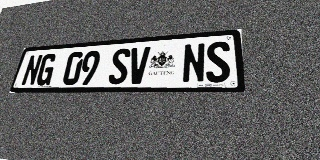0: (61, 51, 85, 85)
9: (78, 50, 101, 85)
G: (35, 53, 58, 86)
N: (182, 43, 205, 83), (20, 54, 43, 86)
S: (206, 41, 231, 83), (107, 48, 131, 84)
V: (127, 47, 150, 84)
